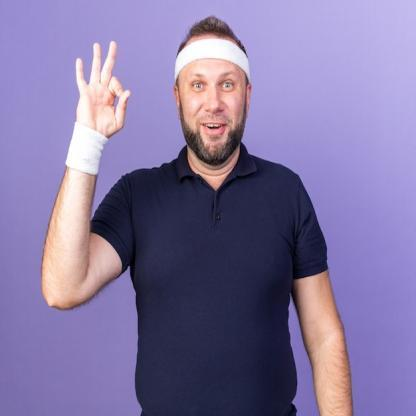ok: (72, 37, 132, 141)
